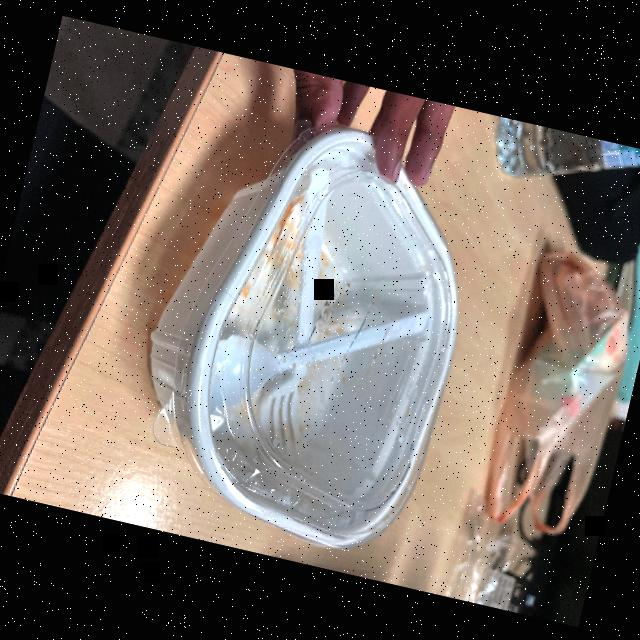plastic_box: (104, 96, 498, 576)
